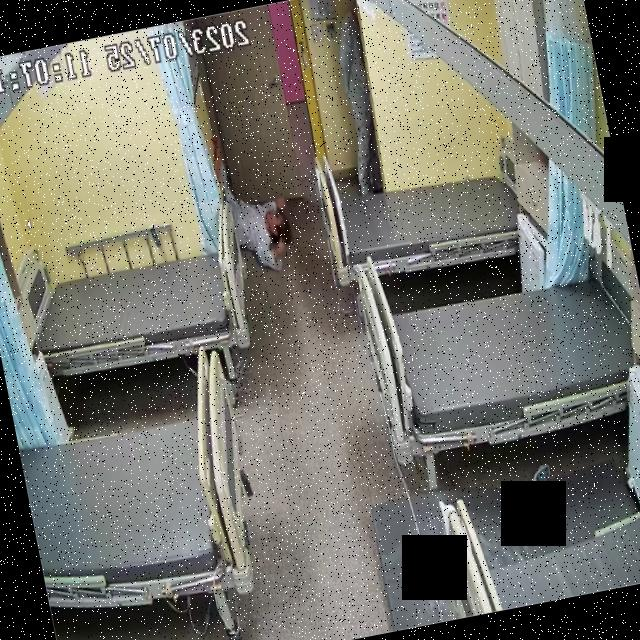bed: (7, 343, 270, 625), (361, 259, 640, 459), (9, 227, 261, 388), (322, 154, 526, 286)
fall: (222, 179, 296, 276)
patient: (317, 0, 389, 196), (221, 176, 298, 279)
